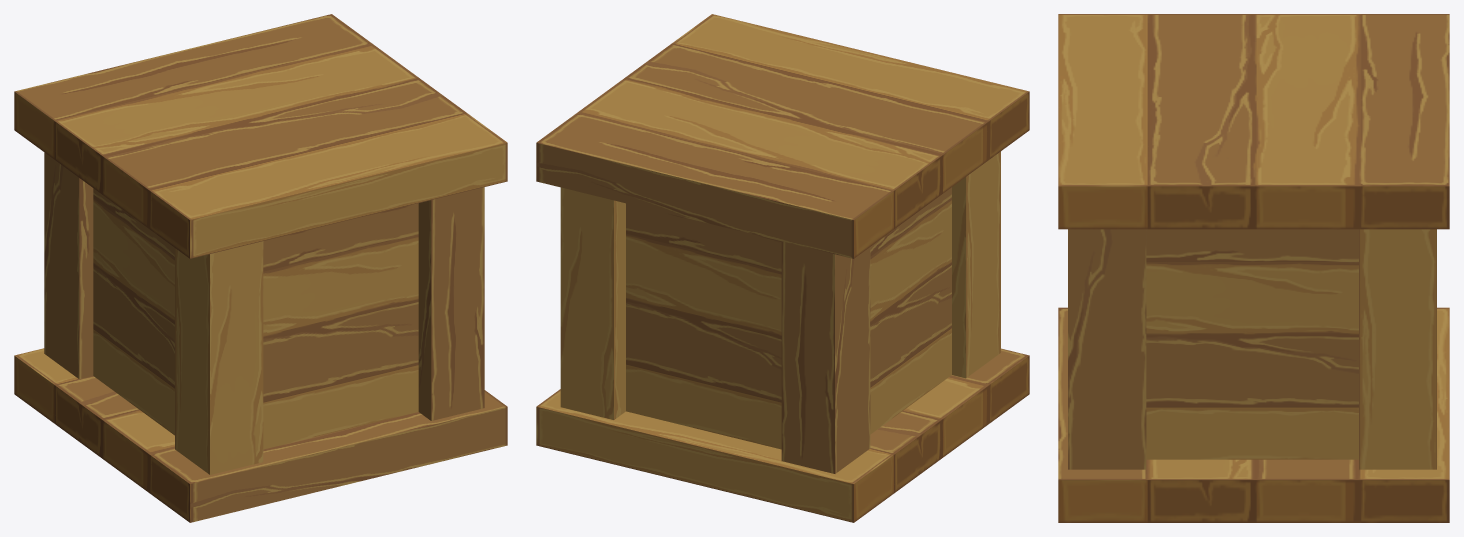
Rendered from Wooden_Box.fbx.
The picture shows the model from 3 angles, left to right: view 1: azimuth 30°, elevation 25°; view 2: azimuth 150°, elevation 25°; view 3: azimuth 270°, elevation 25°; orthographic projection. The views are drawn at different scales.
Parts seen in each view (by area): view 1: Wooden_Box; view 2: Wooden_Box; view 3: Wooden_Box.
Part boxes in pixels (x1=…): Wooden_Box: x1=14, y1=14, x2=507, y2=522; Wooden_Box: x1=536, y1=14, x2=1029, y2=522; Wooden_Box: x1=1058, y1=14, x2=1449, y2=522.
Bounding box in the file's own units: 18.37 × 16.73 × 17.61.
